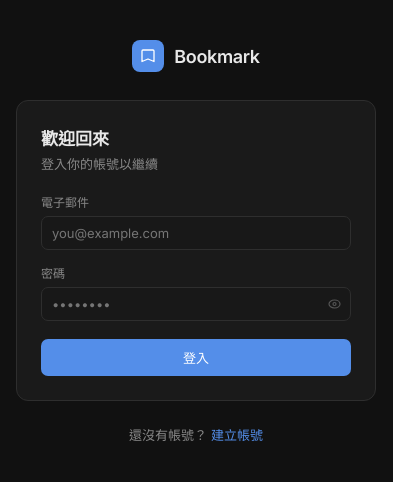
Test: AuthPage — login › 驗證失敗：密碼少於 8 字元
In the field with placeholder "you@example.com": (196, 233) left=41, top=216, right=351, bottom=250, type "a@b.com"
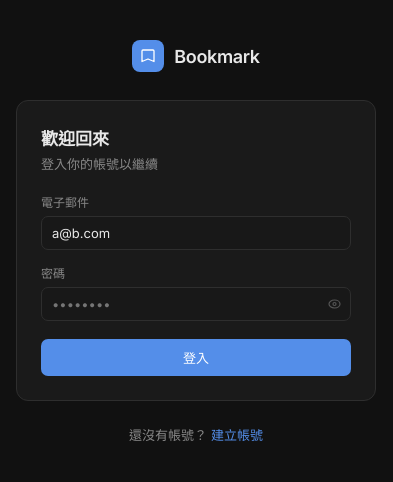
In the password field with placeholder "••••••••": (196, 304) left=41, top=287, right=351, bottom=321, type "123"
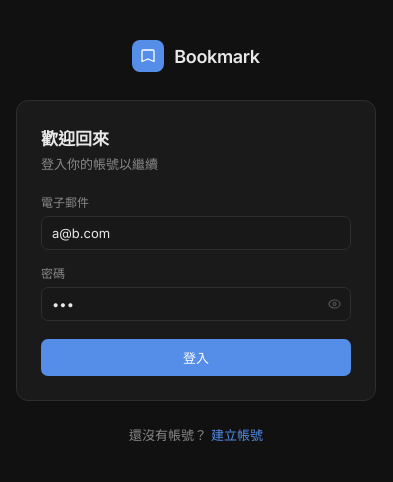
Click the button "登入": (196, 358) left=41, top=339, right=351, bottom=376
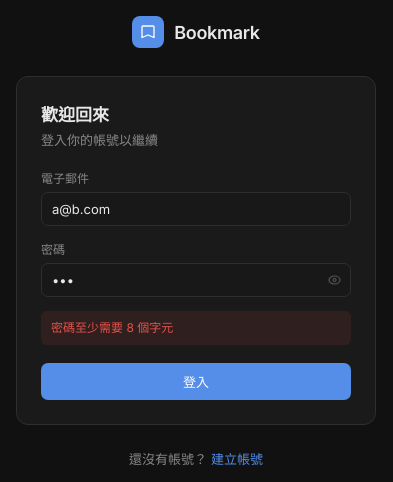
Check: the text "密碼至少需要 8 個字元" is shown, box left=41, top=311, right=351, bottom=345
